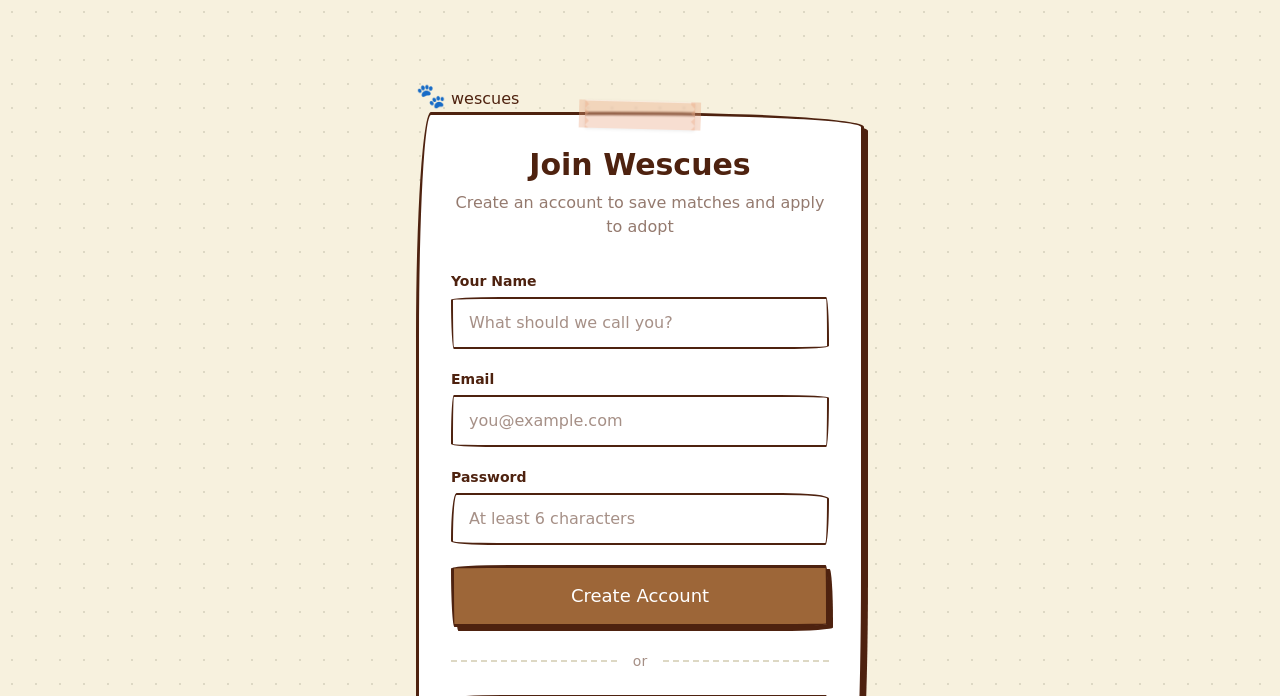
it: Signup Page › shows loading state during signup
This screenshot has width=1280, height=696.
Type "Jane" into the field with placeholder "What should we call you?".
click(640, 323); type("Jane")  # box left=451, top=297, right=829, bottom=349
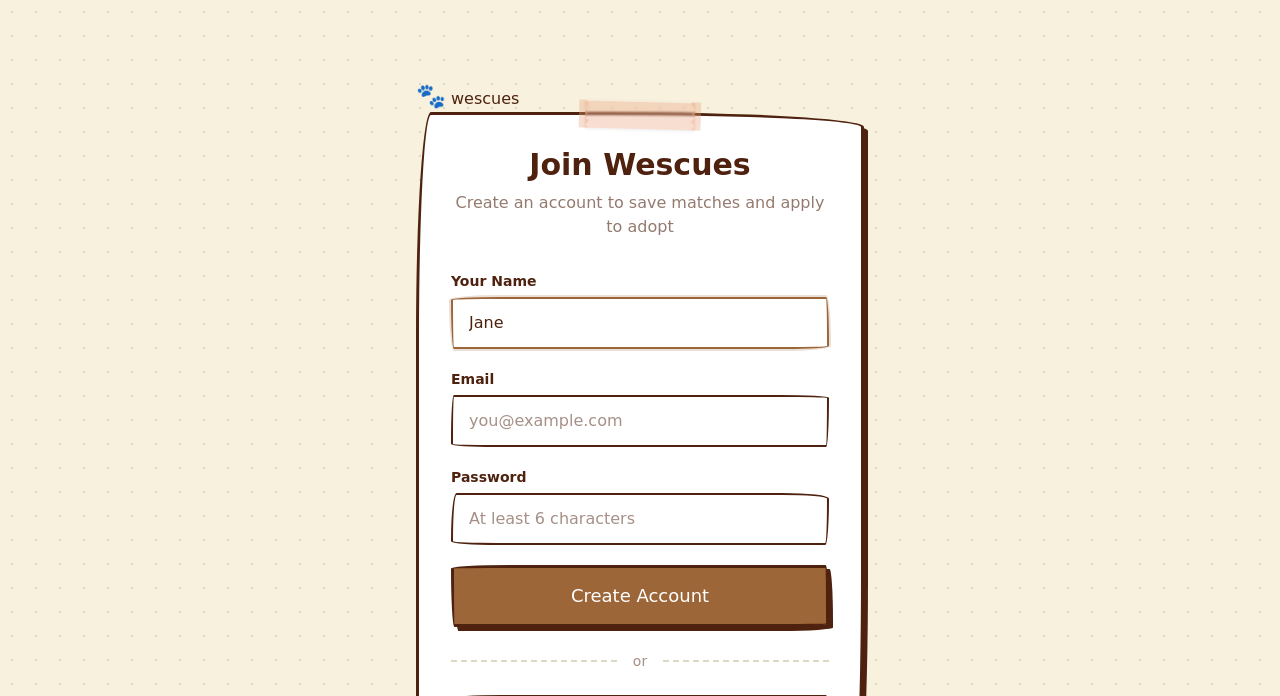
Type "jane@example.com" into the field with placeholder "you@example.com".
click(640, 421); type("jane@example.com")  # box left=451, top=395, right=829, bottom=447
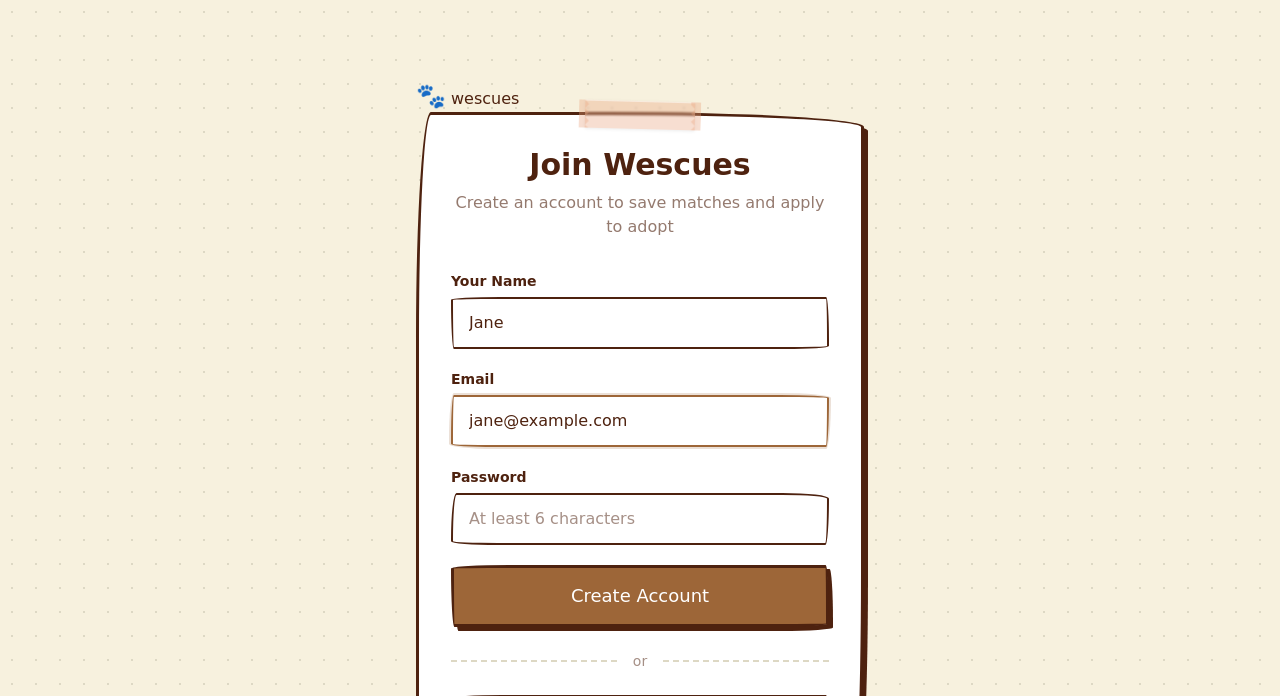
Type "password123" into the password field with placeholder "At least 6 characters".
click(640, 519); type("password123")  # box left=451, top=493, right=829, bottom=545
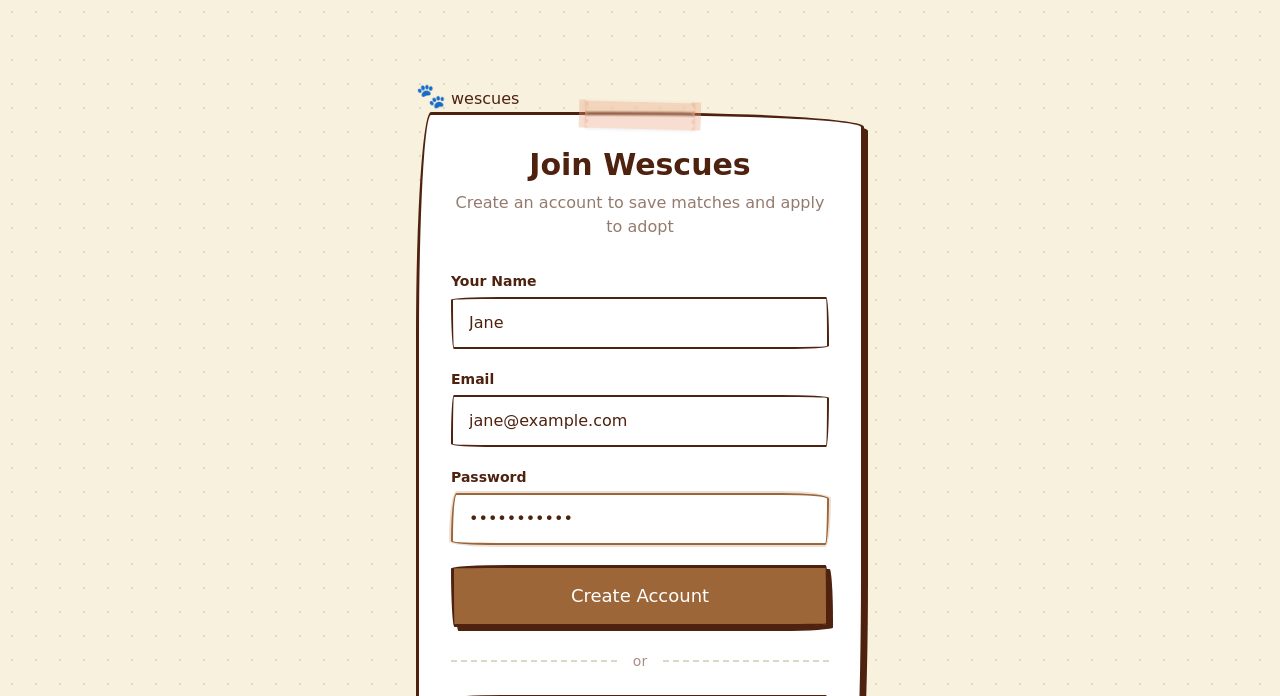
Click the button "Create Account".
click(640, 596)  # box left=451, top=565, right=829, bottom=627
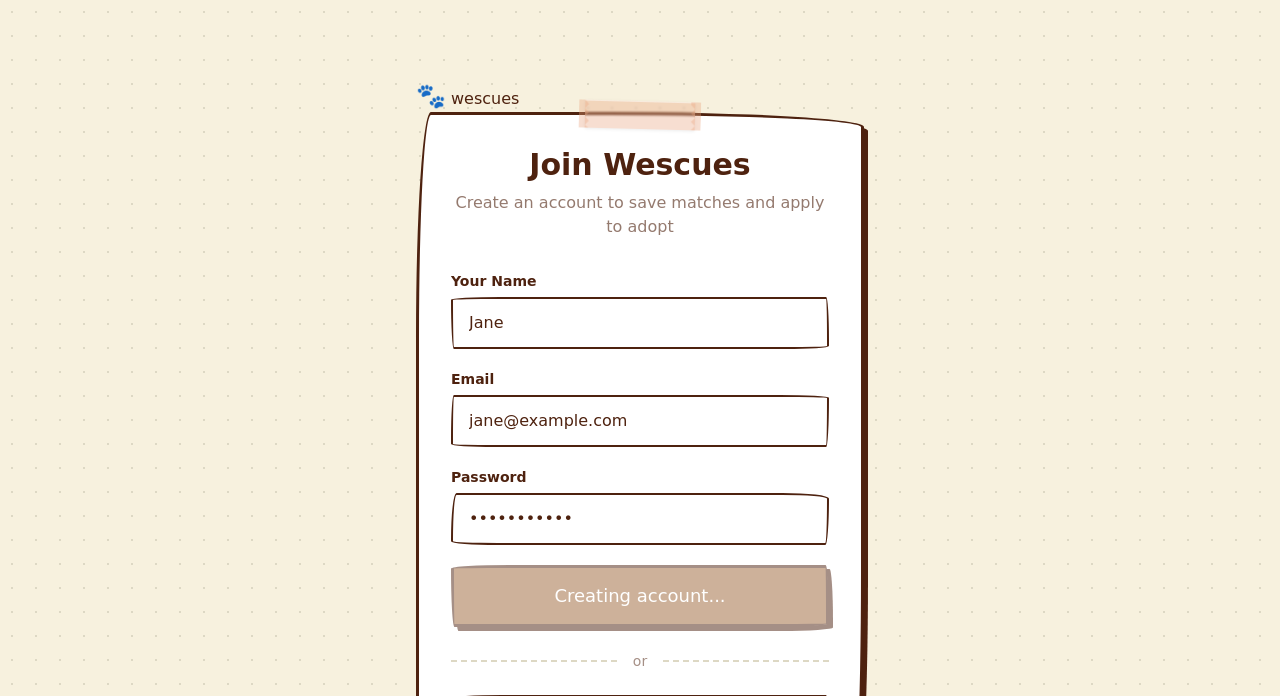
Expected: the button "Creating account..." is disabled, left=451, top=565, right=829, bottom=627
